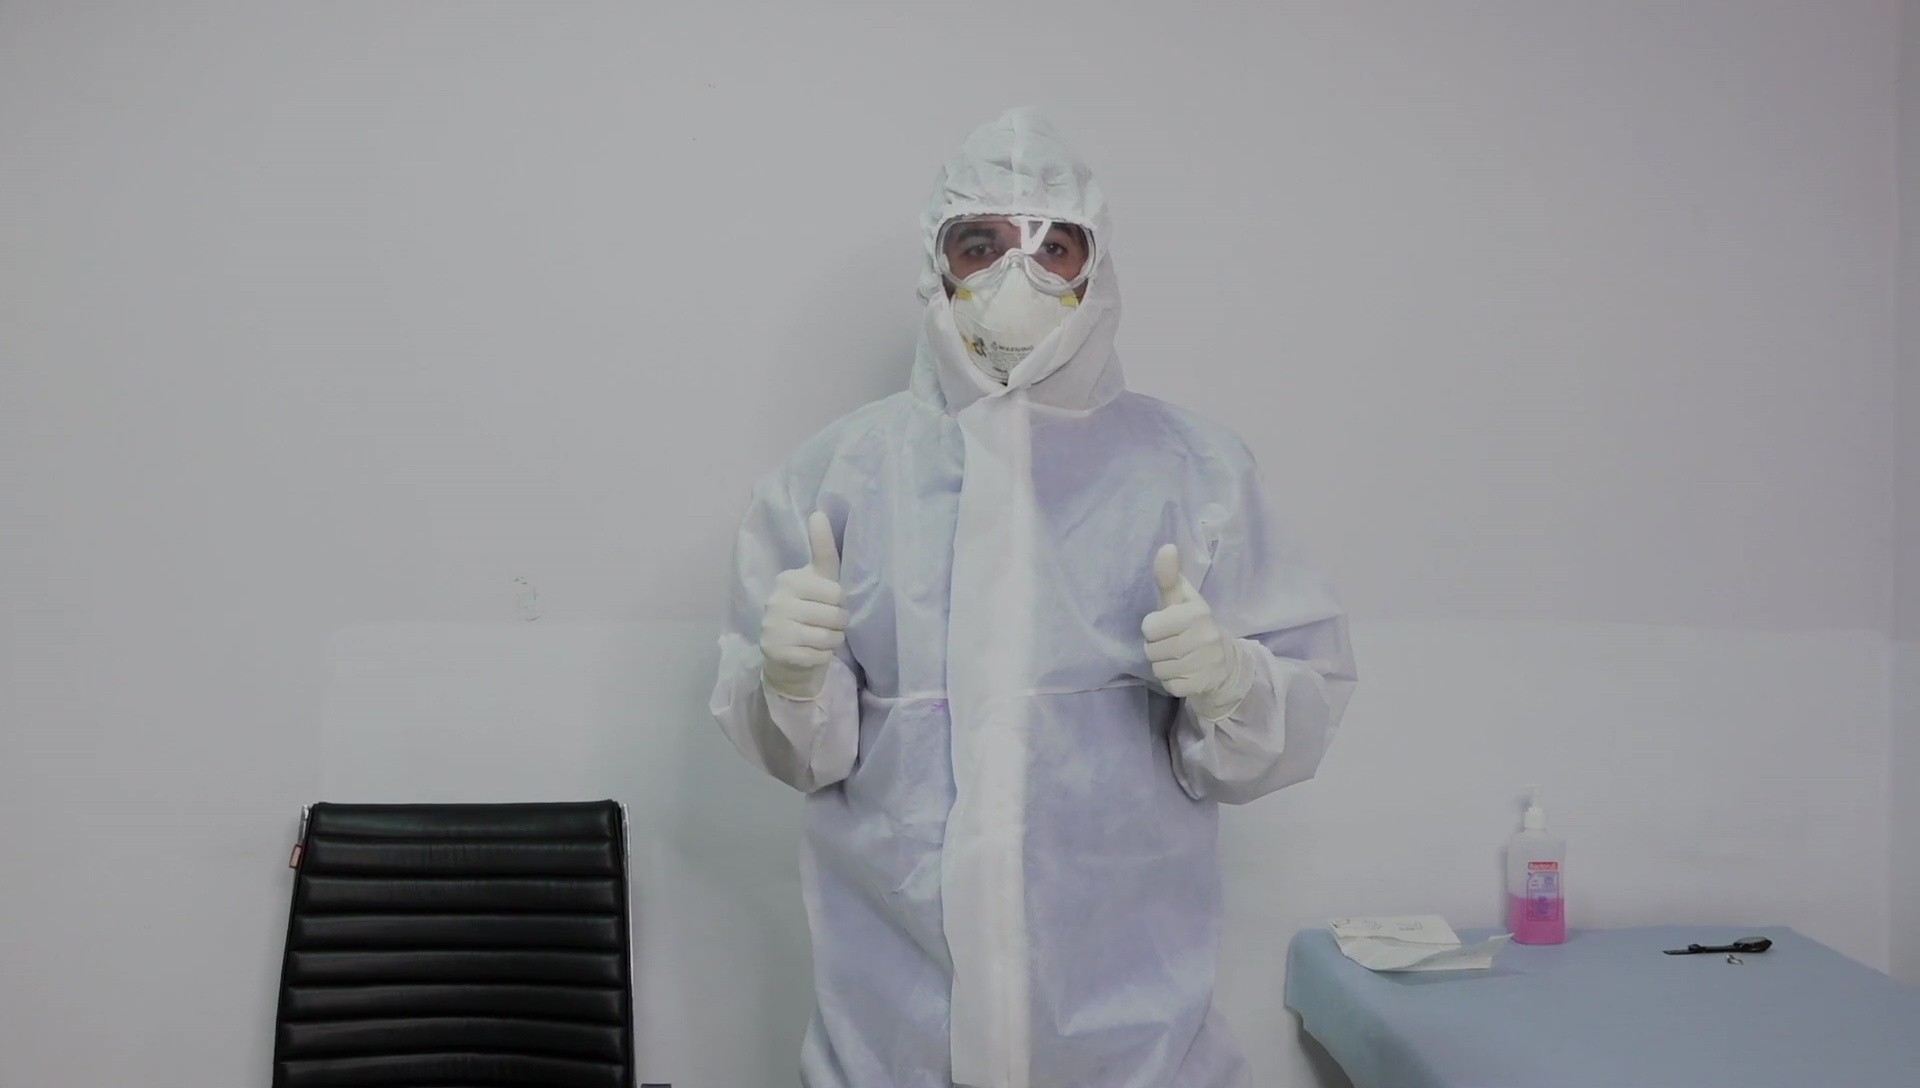Coverall: (707, 107, 1355, 1086)
Gloves: (759, 509, 852, 686), (1138, 542, 1228, 699)
Goggles: (932, 213, 1101, 299)
with_mask: (947, 254, 1082, 387)
